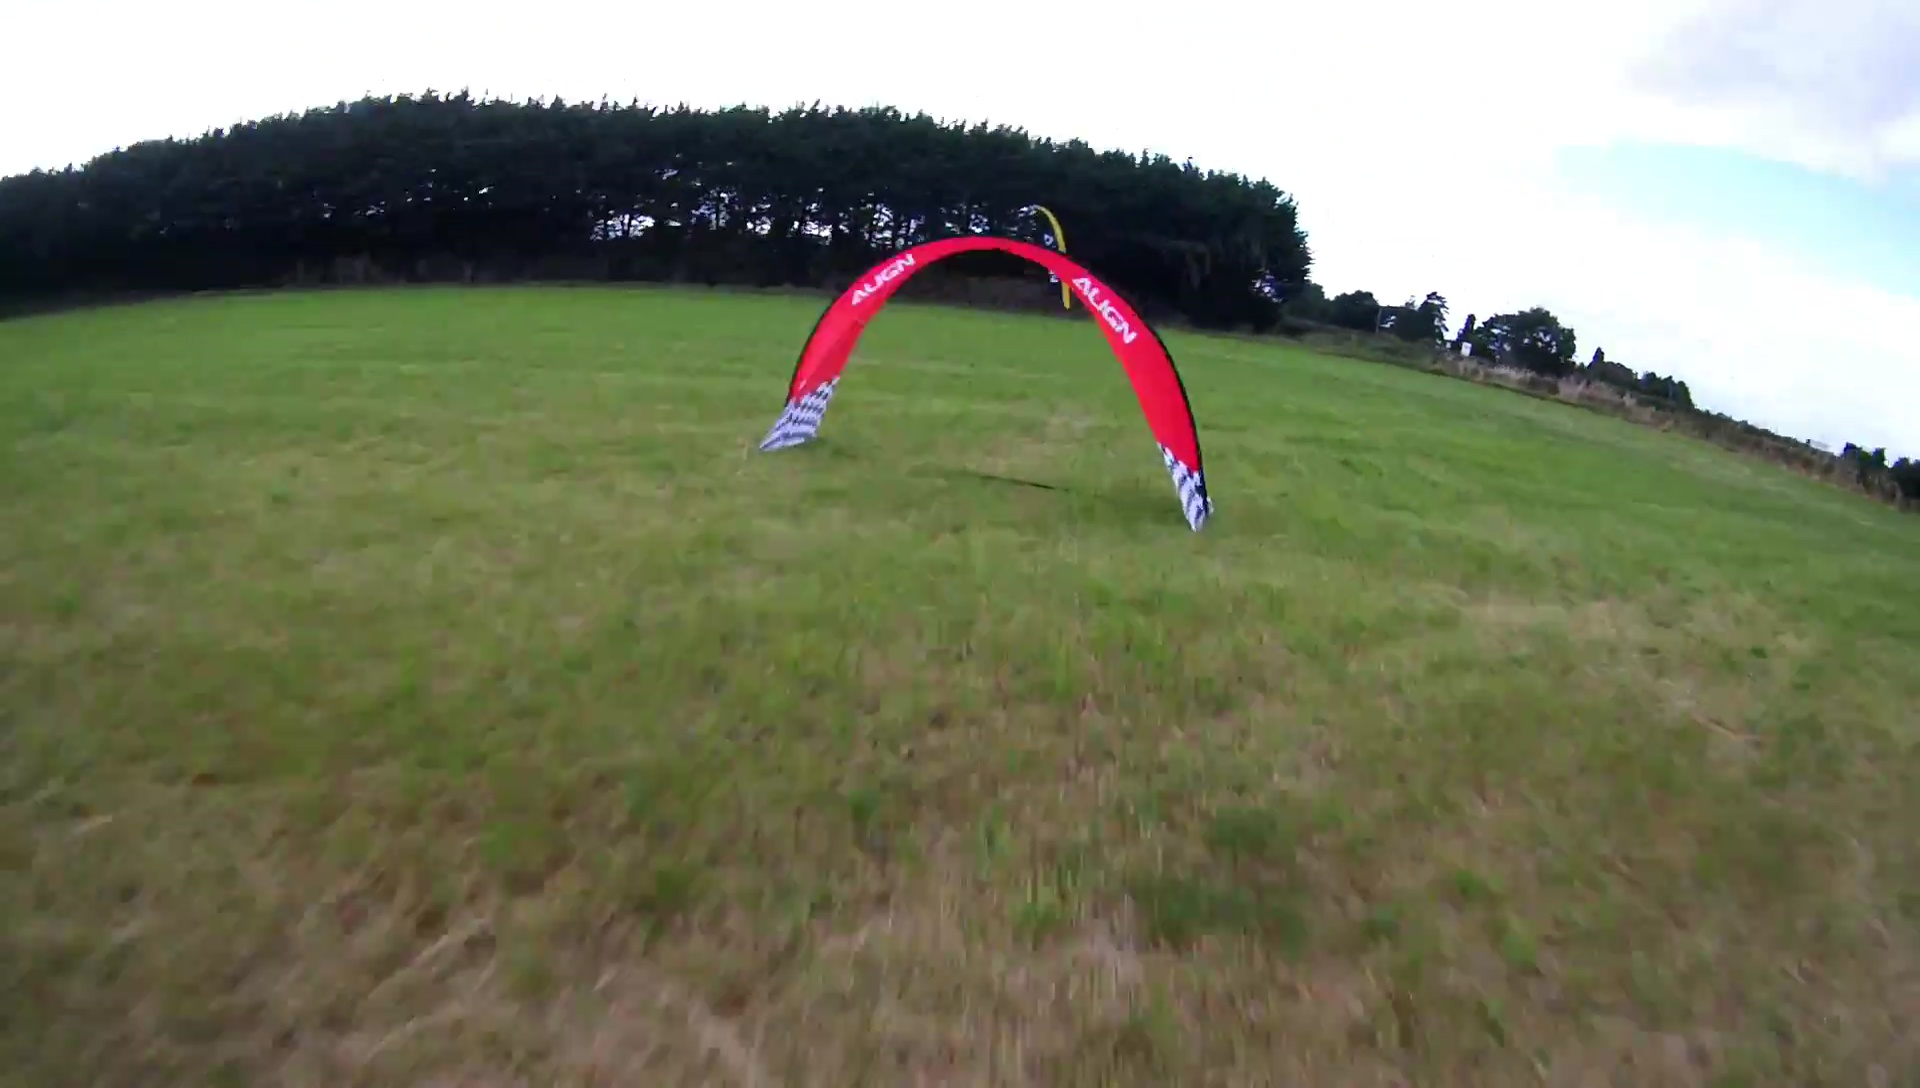gate: (758, 231, 1222, 534)
